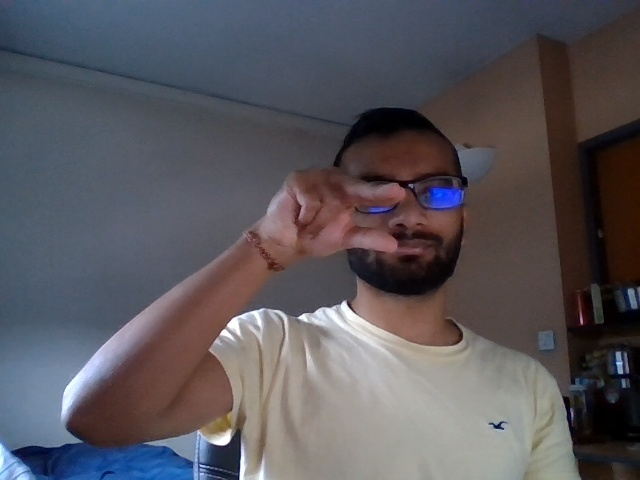No: (242, 150, 423, 272)
